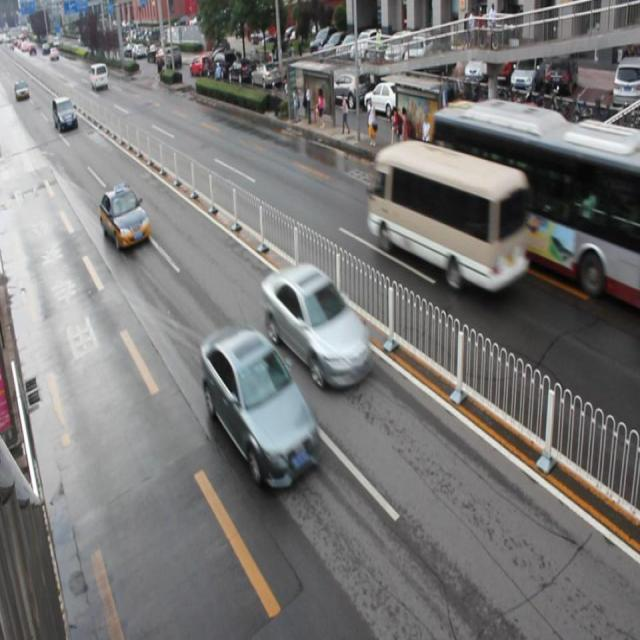car: (198, 324, 317, 484), (259, 262, 370, 385), (100, 186, 152, 251)
truck: (366, 140, 526, 282)
van: (431, 102, 640, 308)
